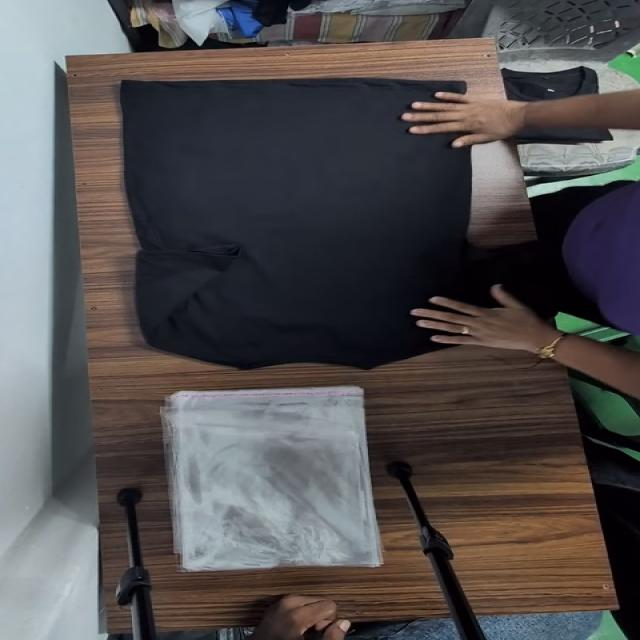new-garment: (121, 78, 469, 368)
